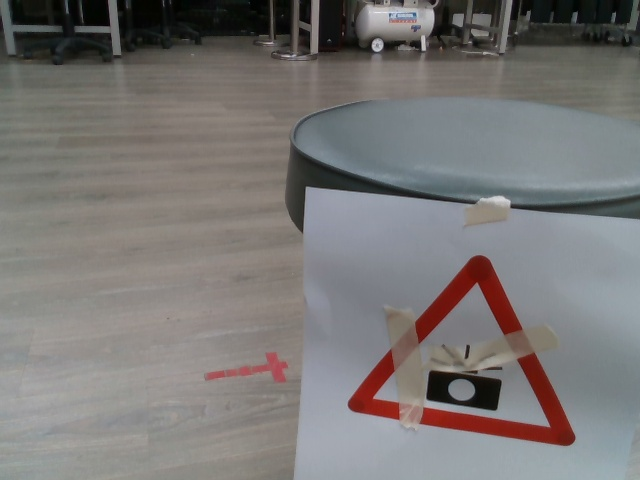camera: (342, 252, 580, 452)
